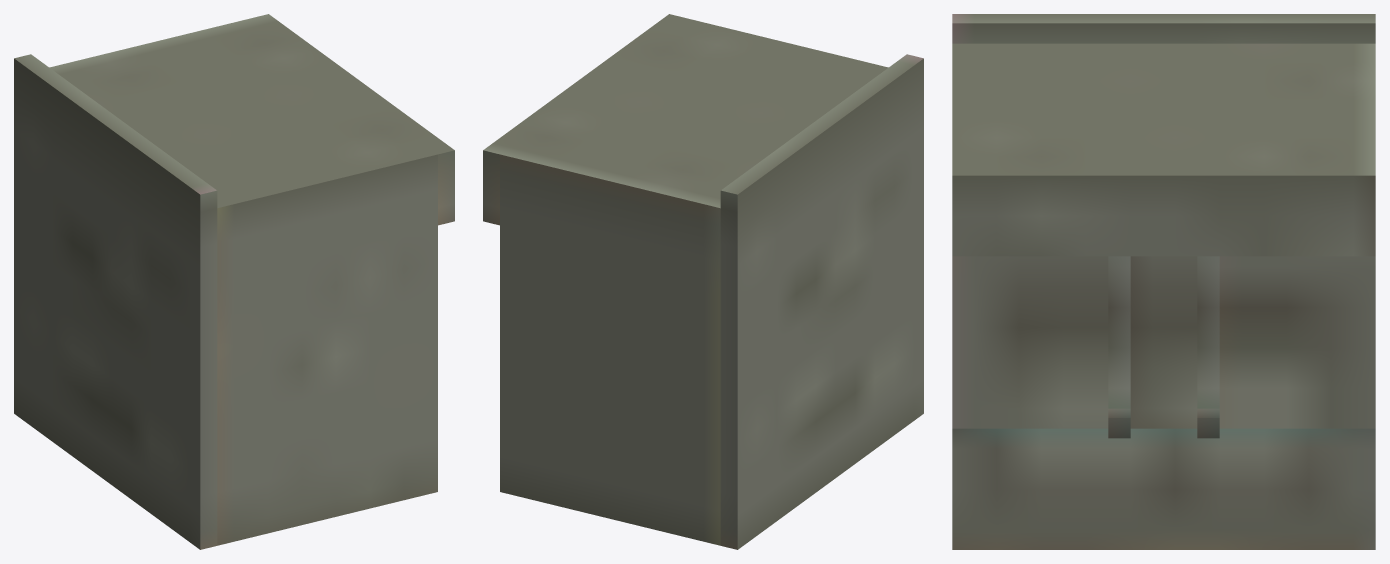
The model's file is CabinetDarkGrey_00.fbx.
3 renders of one model, left to right at view 1: azimuth 30°, elevation 25°; view 2: azimuth 150°, elevation 25°; view 3: azimuth 270°, elevation 25°, orthographic. The views are drawn at different scales.
Visible parts, largest first — view 1: CabinetDarkGrey_00; view 2: CabinetDarkGrey_00; view 3: CabinetDarkGrey_00.
Part boxes in pixels (x1,y1,x2,y2): CabinetDarkGrey_00: [14, 14, 454, 549]; CabinetDarkGrey_00: [483, 14, 923, 549]; CabinetDarkGrey_00: [952, 14, 1375, 549].
Bounding box in the file's own units: 75 × 95 × 100.
1 material, 1 textured.
